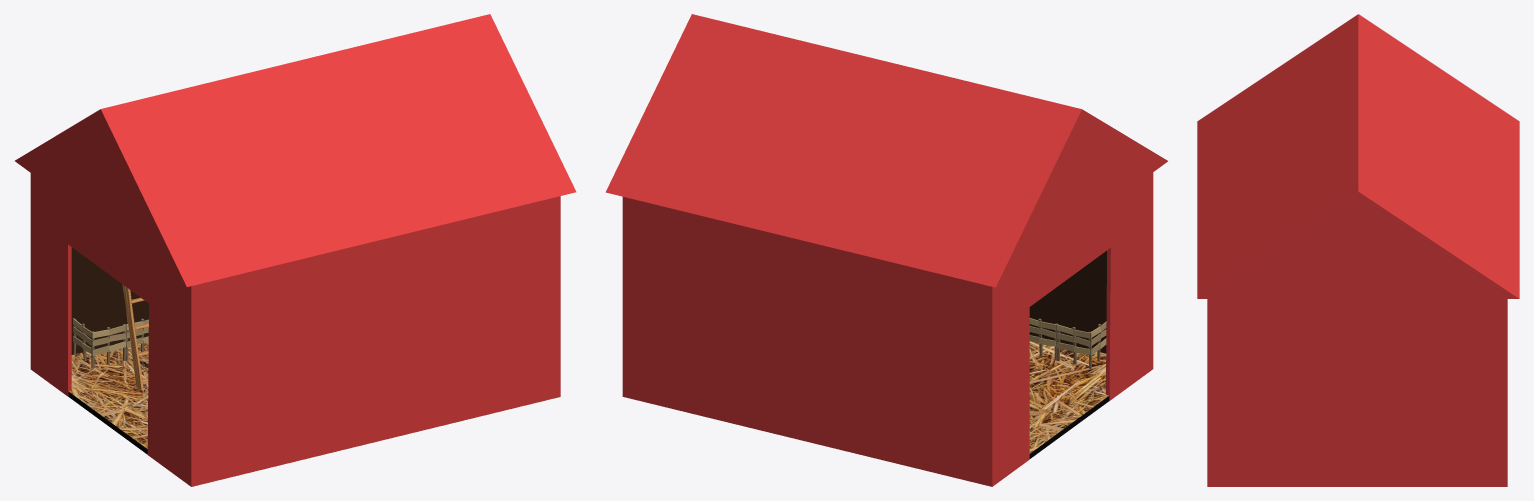
Rendered from barn-empty.gltf.
The picture shows the model from 3 angles, left to right: view 1: azimuth 30°, elevation 25°; view 2: azimuth 150°, elevation 25°; view 3: azimuth 270°, elevation 25°; orthographic projection. The views are drawn at different scales.
Parts seen in each view (by area): view 1: Cube, Cube010_1, istockphoto-1182448020-1024x1024, Fencing_Wood_Clean_3_AO, Ladder_from_Poly_by_Google; view 2: Cube, Cube010_1, istockphoto-1182448020-1024x1024, Fencing_Wood_Clean_3_AO003; view 3: Cube010_1, Cube.
Part boxes in pixels (x1,y1,x2,y2): Cube: [30, 173, 560, 486]; Cube010_1: [15, 14, 576, 286]; istockphoto-1182448020-1024x1024: [68, 337, 148, 454]; Fencing_Wood_Clean_3_AO: [91, 318, 148, 368]; Ladder_from_Poly_by_Google: [122, 284, 148, 390]; Cube: [622, 172, 1153, 486]; Cube010_1: [605, 14, 1167, 287]; istockphoto-1182448020-1024x1024: [1029, 338, 1109, 458]; Fencing_Wood_Clean_3_AO003: [1029, 318, 1092, 368]; Cube010_1: [1197, 14, 1519, 298]; Cube: [1207, 299, 1507, 486].
Bounding box in the file's own units: 5.68 × 4.48 × 4.36.
Materials: 28 (4 with a texture image).
